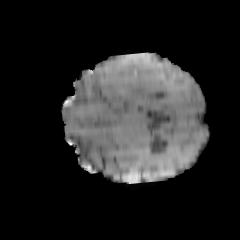glioma: (92, 53, 169, 108)
